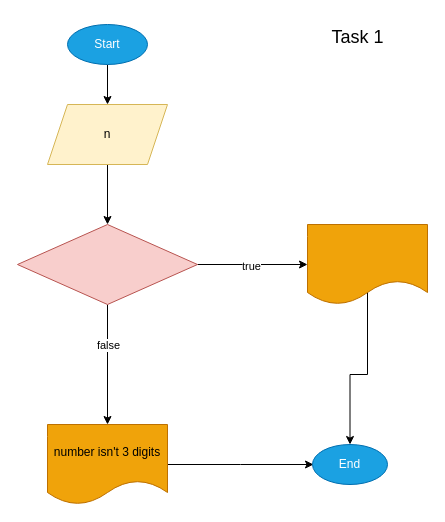
The diagram is 445 pixels wide and 522 high, and some of its shapes have lost their labels. Here are the shapes that lost their labels. From the top down, the centre of each, then its label:
At (x=107, y=264): "(n>=100 && n<1000) && (n>-1000 && n<=-100)".
At (x=367, y=264): "number is 3 digits".
